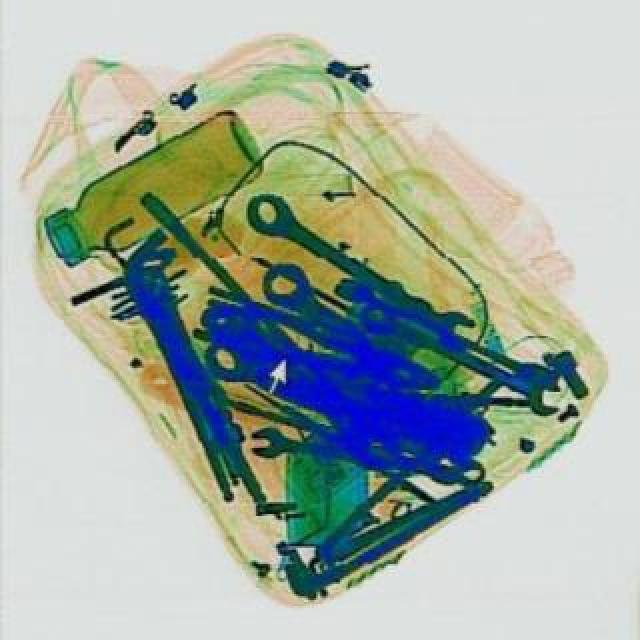scissors: (242, 182, 486, 352), (358, 292, 574, 420), (246, 420, 490, 486)
wrench: (196, 282, 452, 406)
